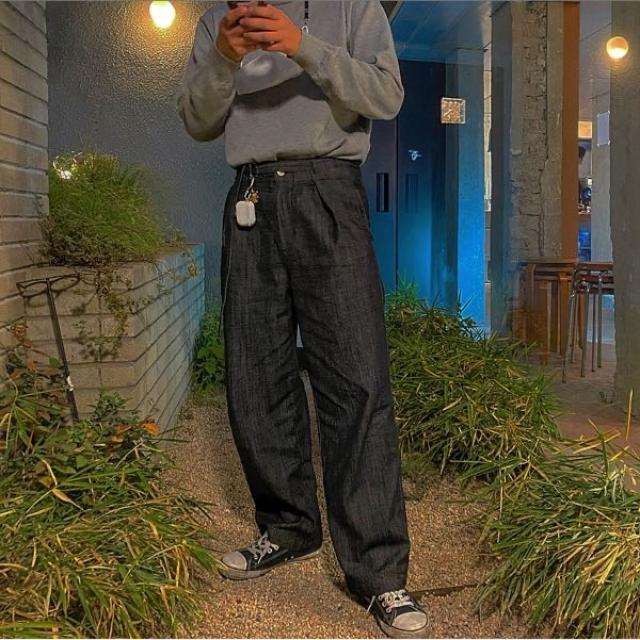denimpants: (227, 162, 410, 604)
longsleeve: (174, 4, 403, 169)
